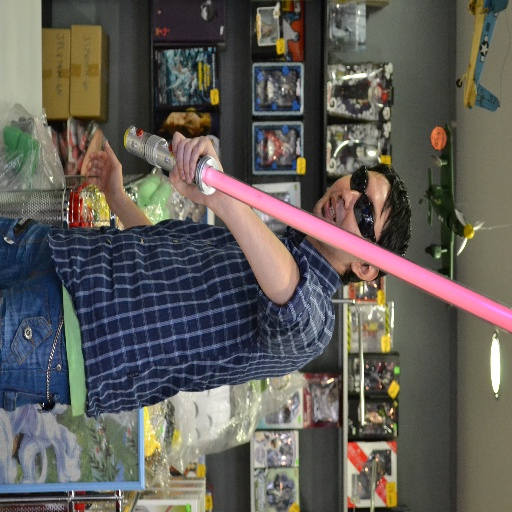hand: (166, 128, 223, 203), (77, 132, 124, 205)
